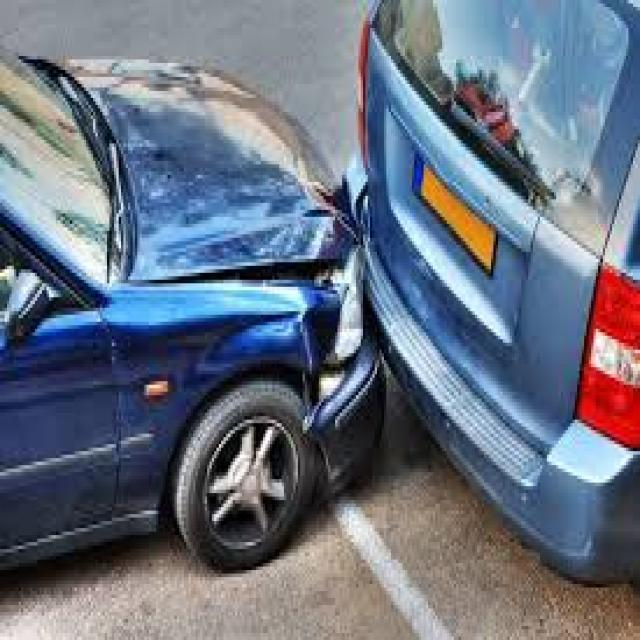accident: (0, 0, 636, 488)
